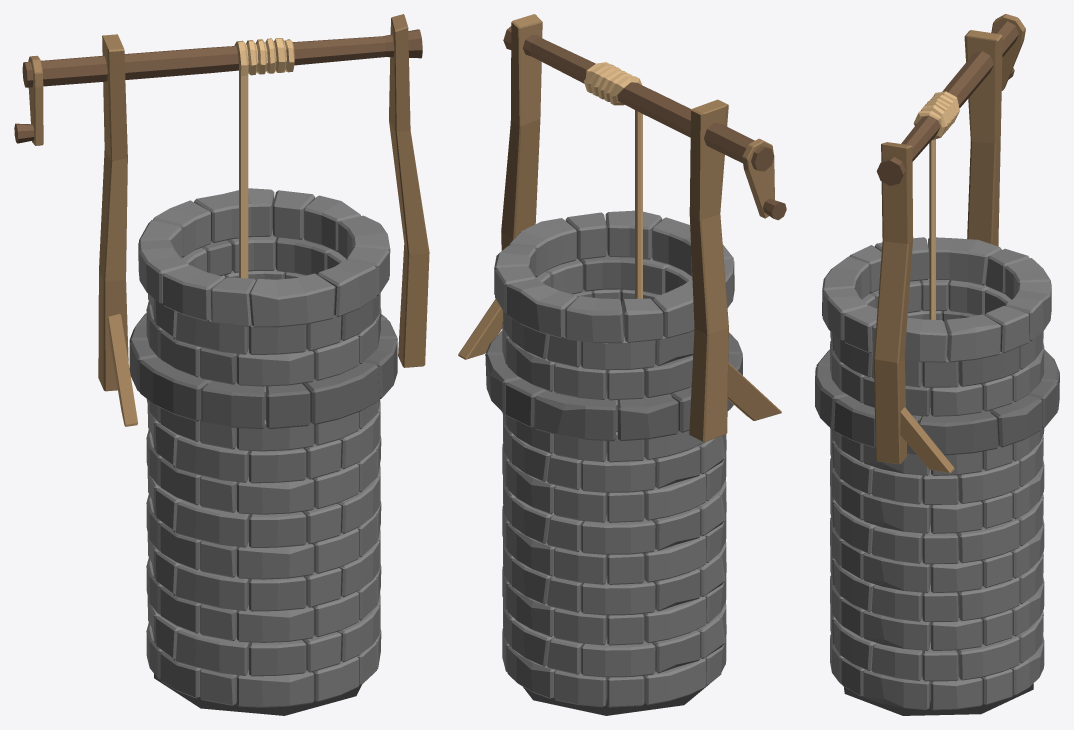
File: well.glb
3 views of the same model, side by side, from view 1: azimuth 30°, elevation 25°; view 2: azimuth 150°, elevation 25°; view 3: azimuth 270°, elevation 25° (orthographic). The views are drawn at different scales.
Visible parts, largest first — view 1: well; view 2: well; view 3: well.
Part boxes in pixels (x1,y1,x2,y2): well: (14, 14, 429, 715); well: (458, 14, 786, 715); well: (815, 14, 1059, 715).
Bounding box in the file's own units: 0.379 × 0.6347 × 0.2381.
